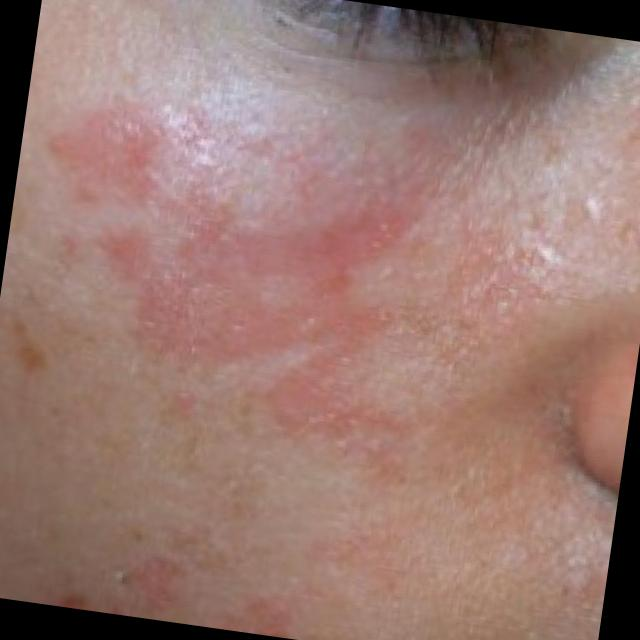redness: (56, 106, 425, 475)
